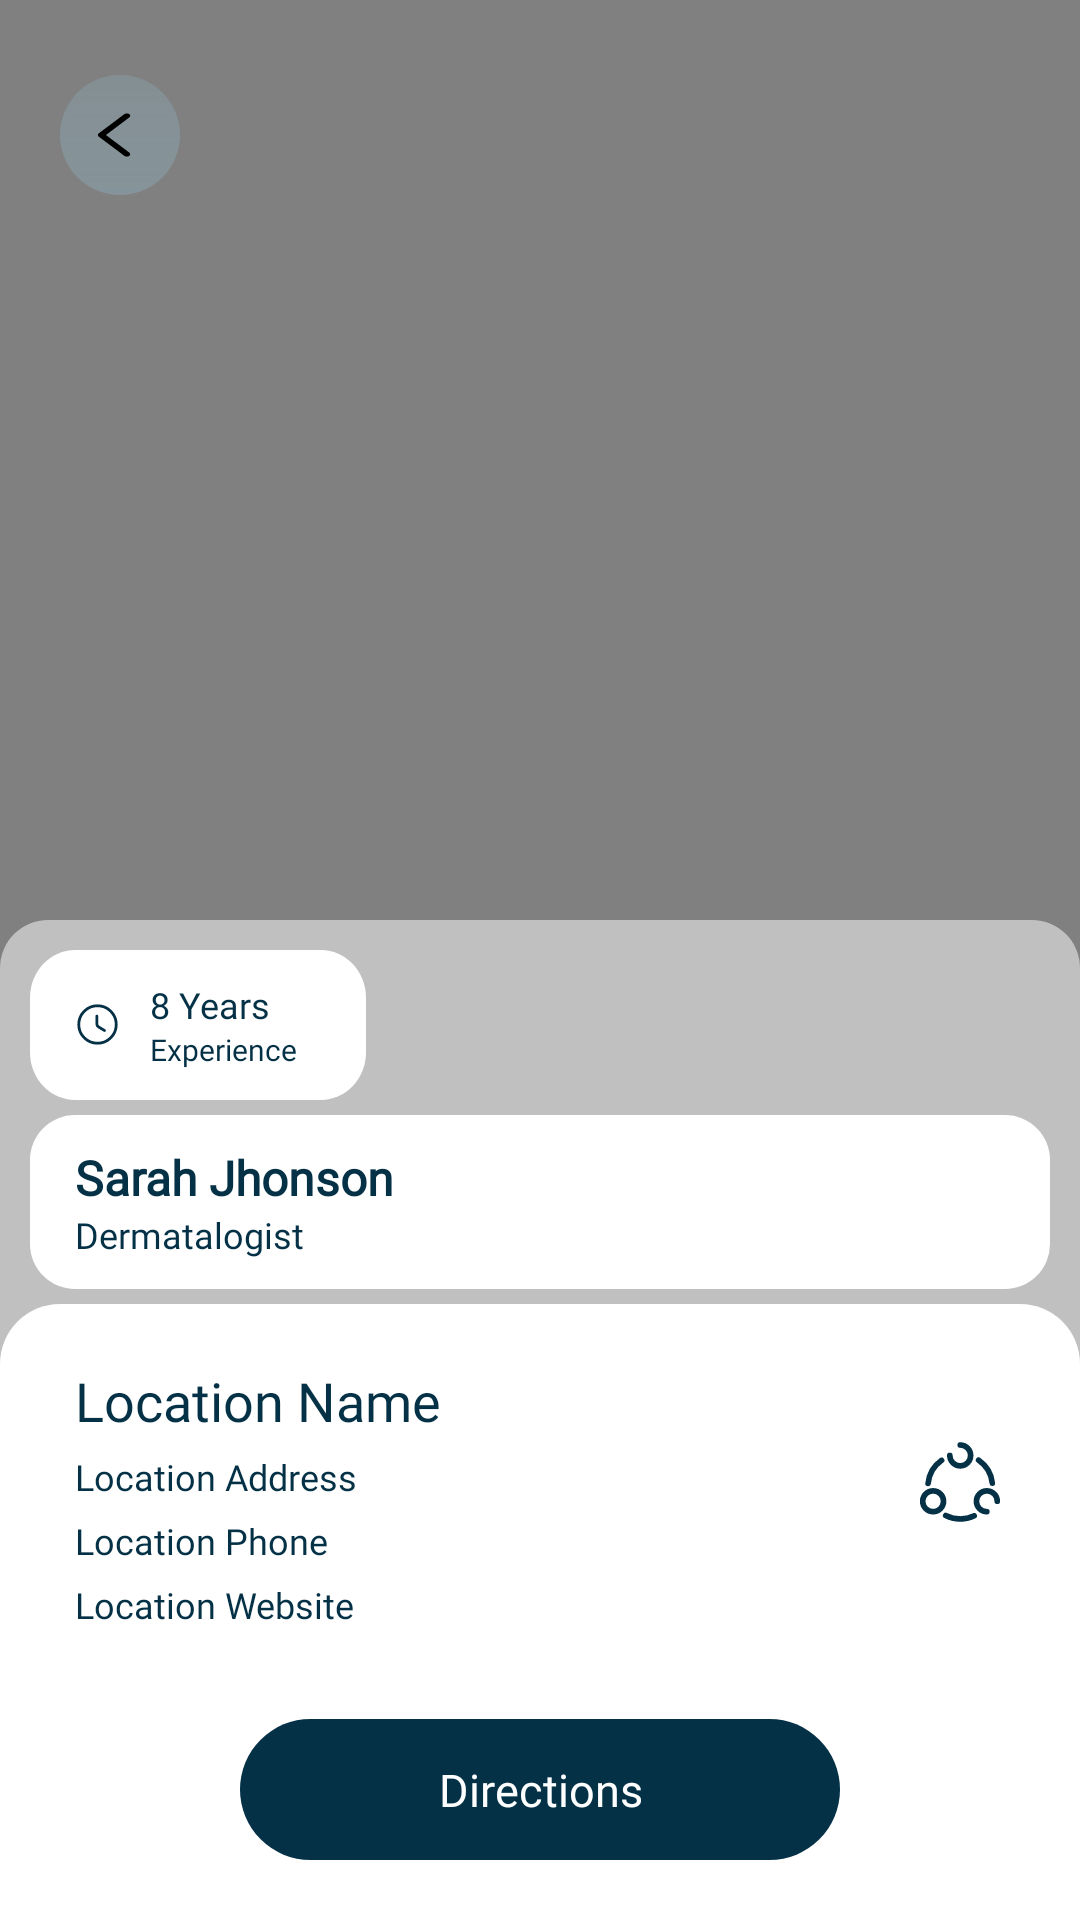

Icon bounding boxes for this 1080px x 1920px phone screenshot, format (x1, y1, x2, y2):
back arrow: (98, 113, 130, 157)
clock: (77, 1004, 118, 1045)
share: (920, 1442, 1000, 1522)
